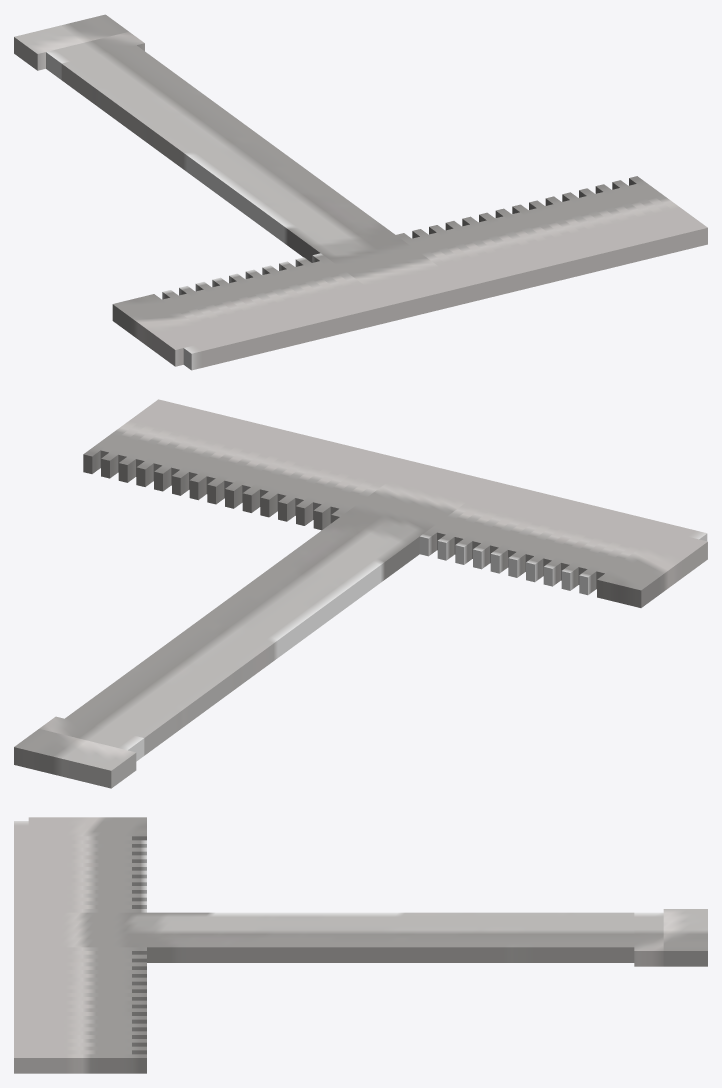
The model's file is rail.obj.
3 views of the same model, one above another, from view 1: azimuth 30°, elevation 25°; view 2: azimuth 150°, elevation 25°; view 3: azimuth 270°, elevation 25° (orthographic). The views are drawn at different scales.
Size of the model in its own units: 0.9844 by 0.03 by 1.2.
1 material, 1 textured.
